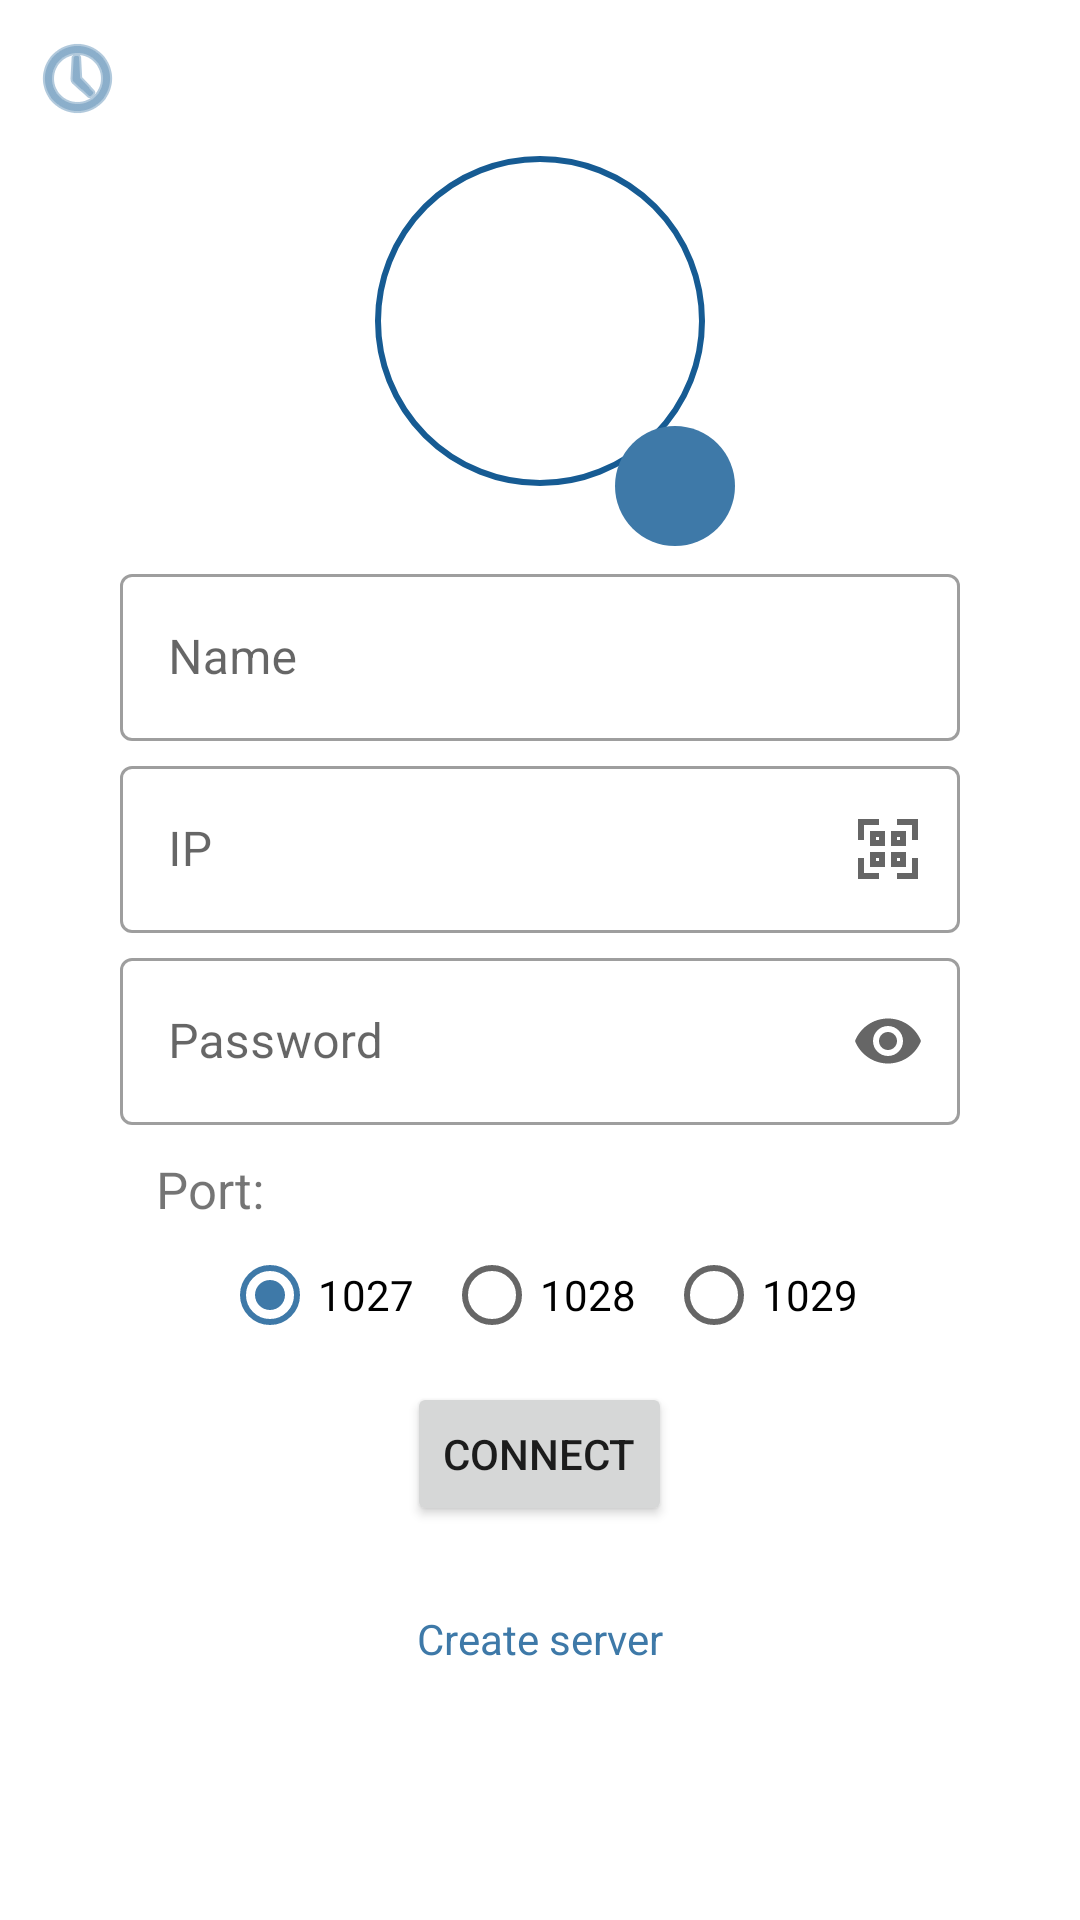

Where to tap for icons on this 1080*1920 app screen, as point (x, y):
recent history: point (77, 78)
